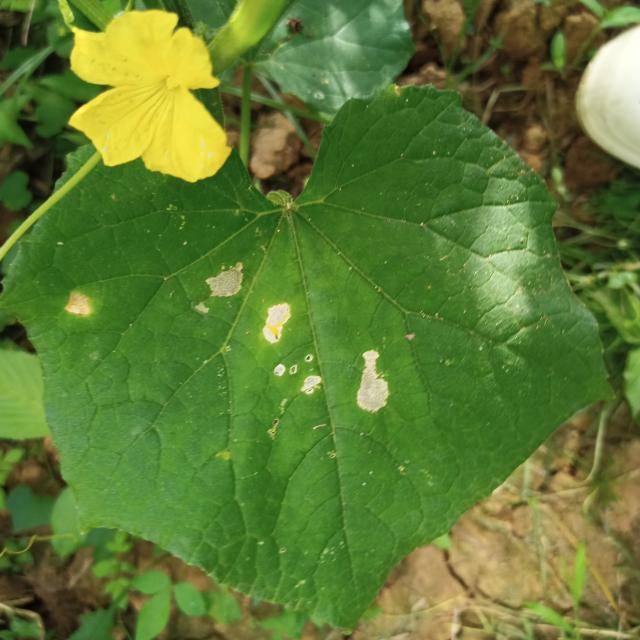disease_cucumber: (193, 262, 390, 415), (66, 289, 90, 318)
